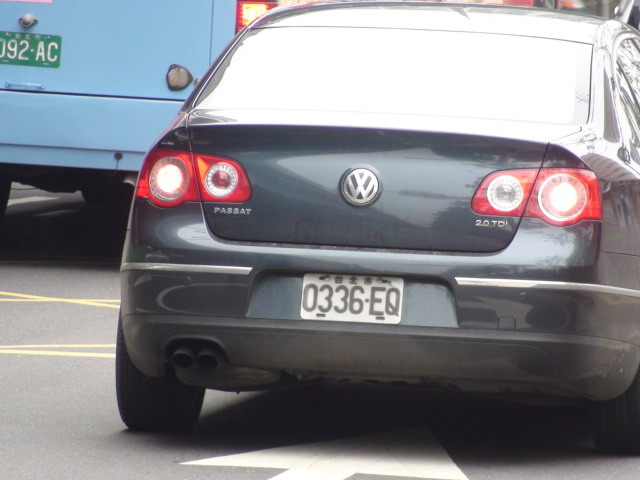plate: (299, 267, 408, 328), (0, 29, 67, 73)
